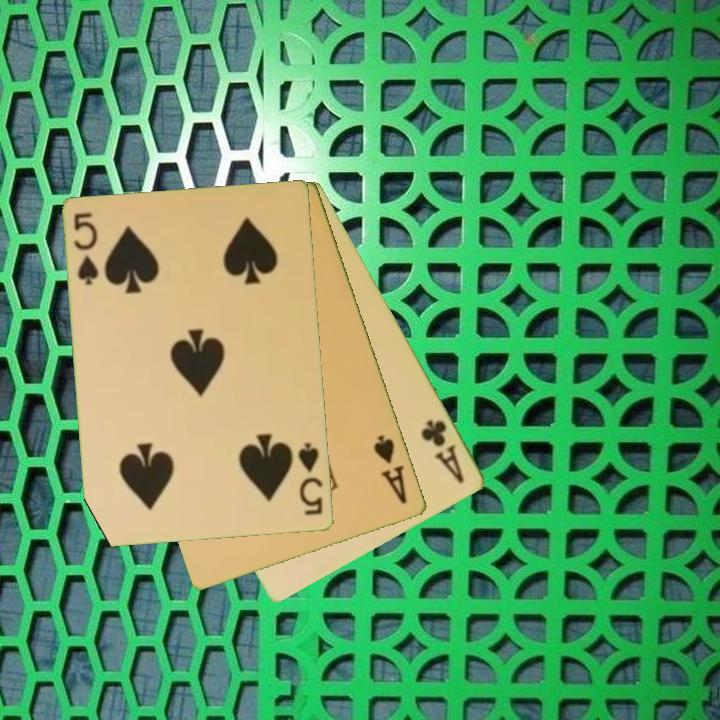5s: (295, 439, 326, 519), (71, 209, 102, 289)
Ac: (417, 416, 468, 486)
As: (370, 431, 410, 507)
